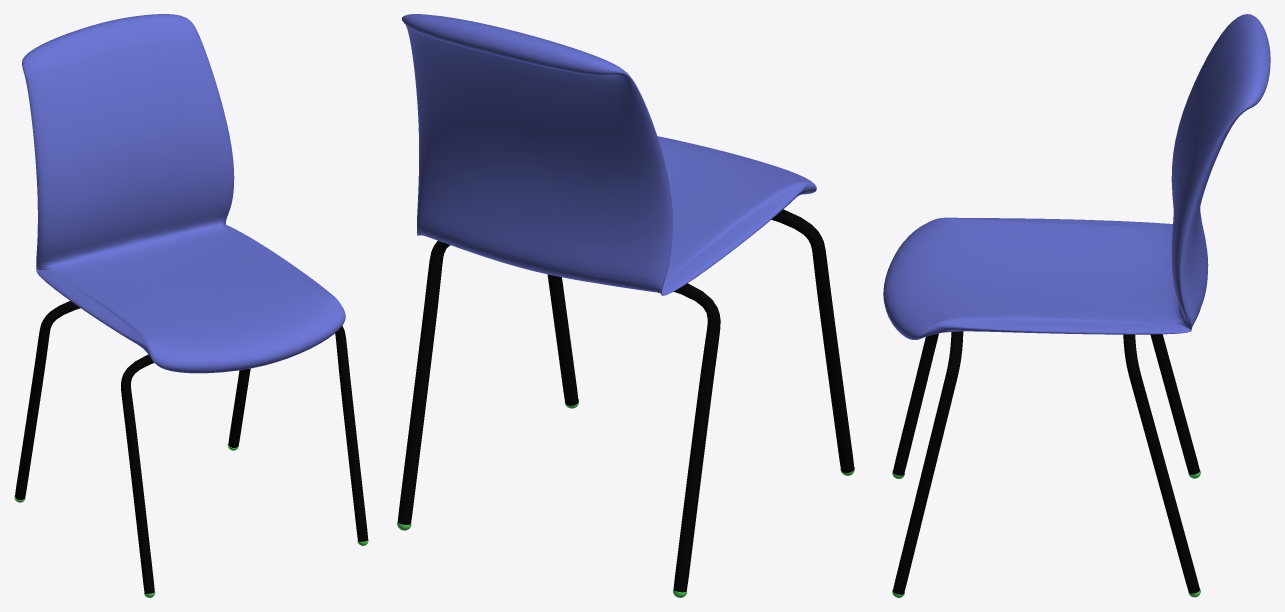
The model's file is sh_blend_swap_cc_0_plasticchair.glb.
The picture shows the model from 3 angles, left to right: view 1: azimuth 30°, elevation 25°; view 2: azimuth 150°, elevation 25°; view 3: azimuth 270°, elevation 25°; orthographic projection. The views are drawn at different scales.
Bounding box in the file's own units: 0.444 × 0.82 × 0.584.
